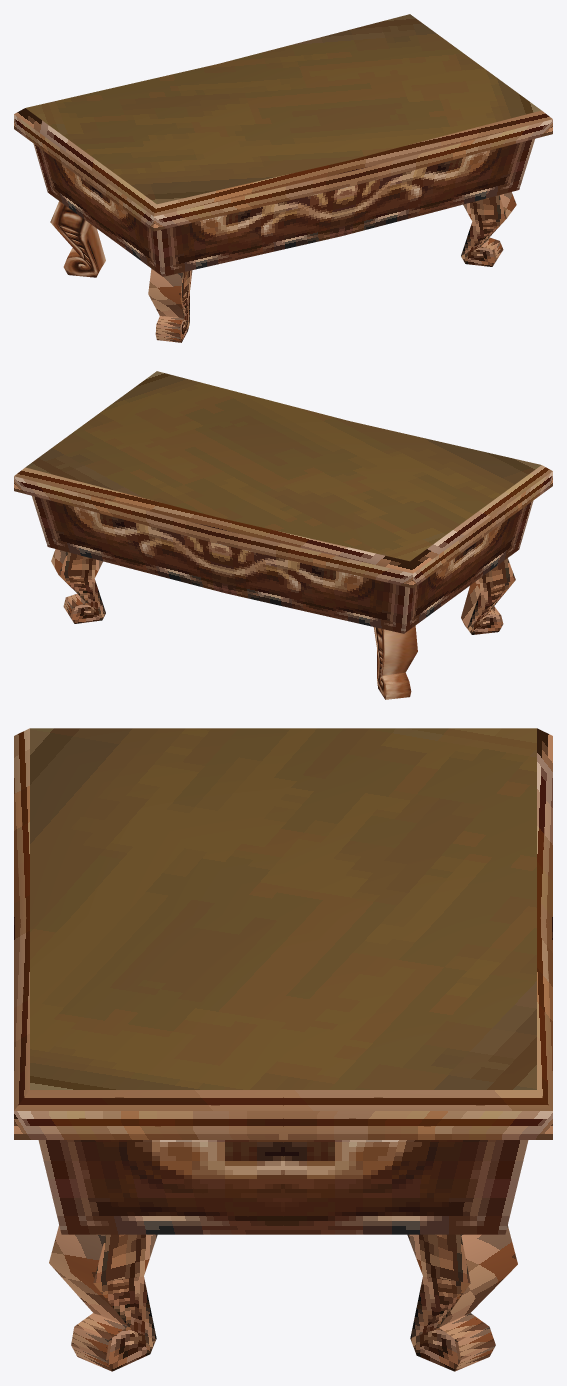
File: desk35-2.glb
3 renders of one model, top to bottom at view 1: azimuth 30°, elevation 25°; view 2: azimuth 150°, elevation 25°; view 3: azimuth 270°, elevation 25°, orthographic. The views are drawn at different scales.
Visible parts, largest first — view 1: desk35_2; view 2: desk35_2; view 3: desk35_2.
Part boxes in pixels (bbox=[...]): desk35_2: bbox=[14, 14, 552, 342]; desk35_2: bbox=[14, 371, 552, 699]; desk35_2: bbox=[14, 728, 552, 1371].
Bounding box in the file's own units: 280 × 105 × 170.
4 materials, 4 textured.
